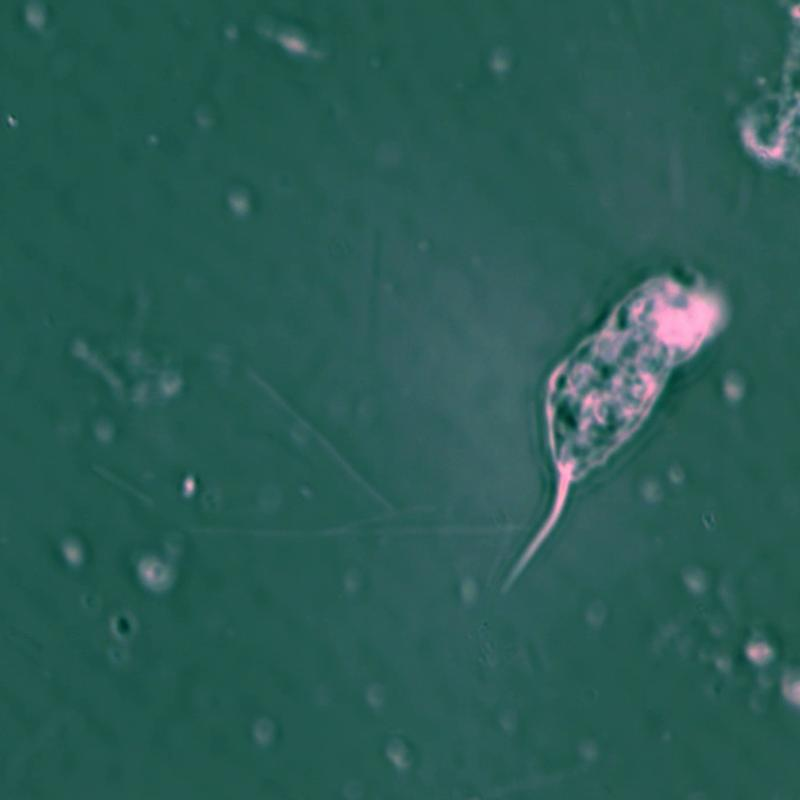depth:0: (489, 253, 749, 605)
